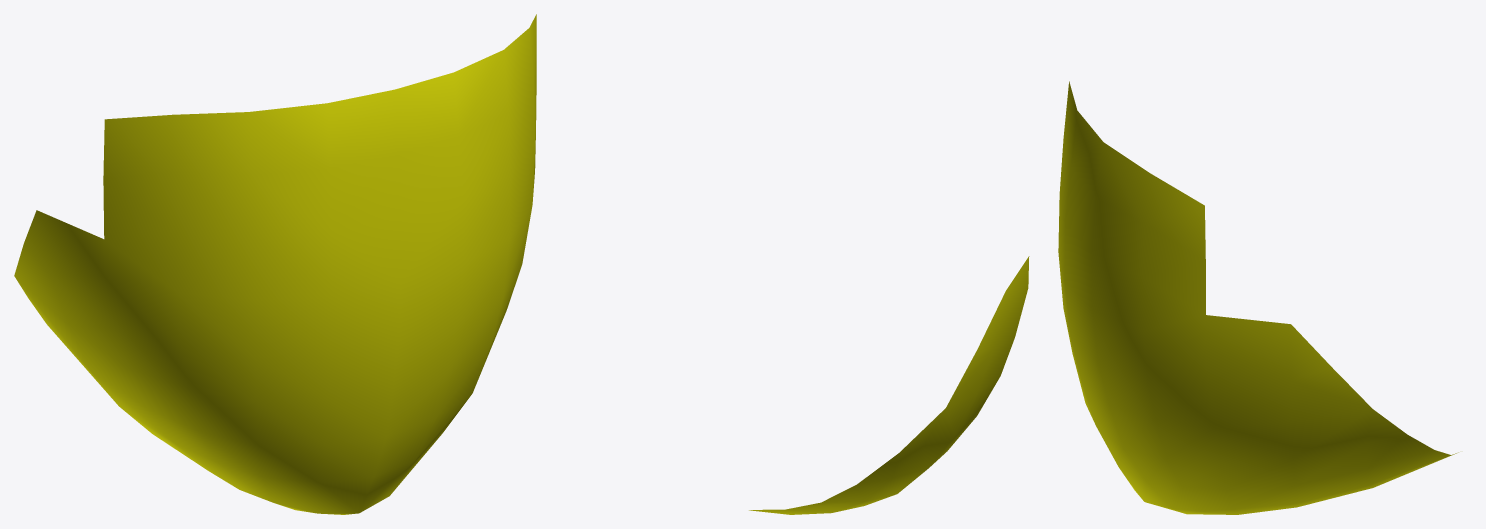
The model's file is Faceline_0.glb.
3 renders of one model, left to right at view 1: azimuth 30°, elevation 25°; view 2: azimuth 150°, elevation 25°; view 3: azimuth 270°, elevation 25°, orthographic. The views are drawn at different scales.
Size of the model in its own units: 52.6 by 49.57 by 43.75.
